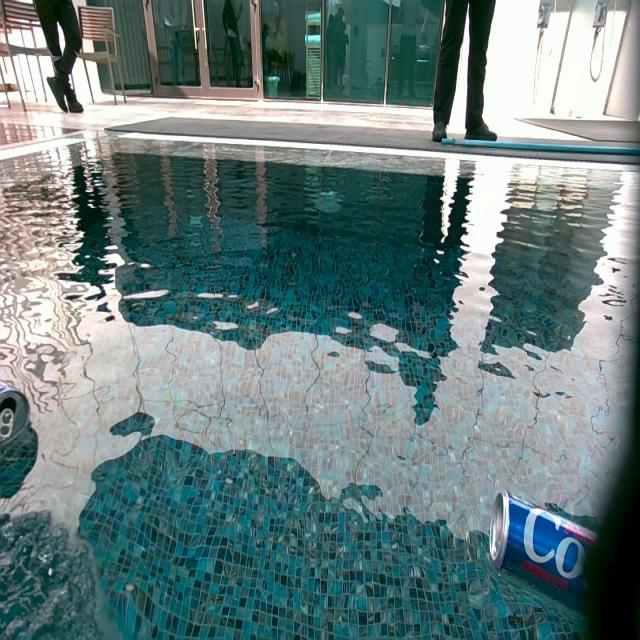Cans: (492, 489, 604, 620), (0, 374, 36, 443)
